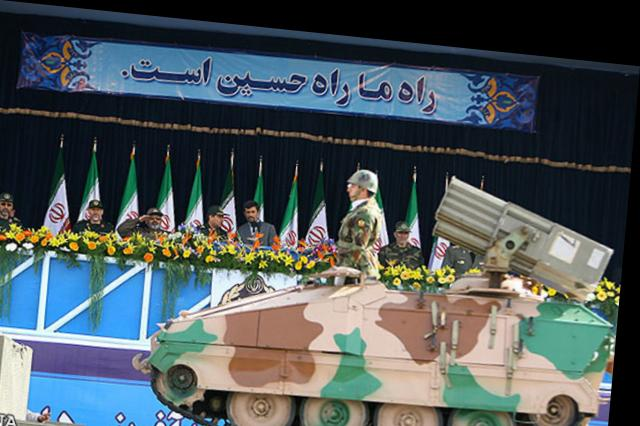other: (335, 161, 389, 262), (388, 206, 428, 267), (244, 194, 285, 240), (444, 220, 481, 268), (121, 199, 169, 235), (0, 189, 35, 235), (201, 195, 234, 234), (80, 197, 115, 231)
tank: (152, 239, 611, 424)
